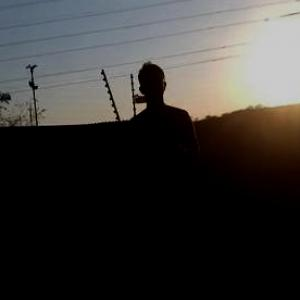follow: (125, 55, 207, 299)
